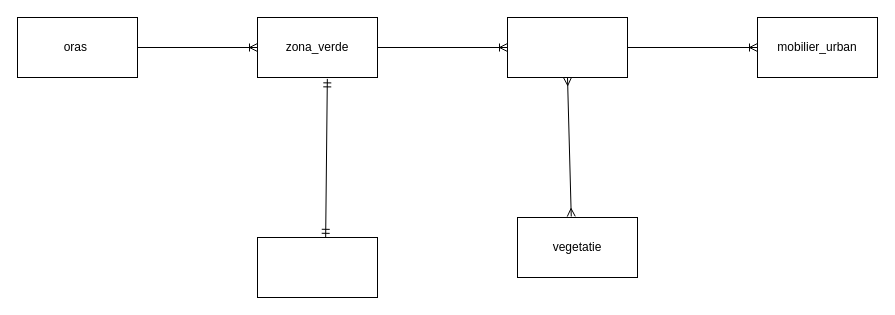
This 895x315 diagram has some shape labels left out. The centre of each missing label's shape, as x and y in pixels:
"sistem_irigatii" belongs at pixel 317 267.
"tip_zona_verde" belongs at pixel 567 47.
